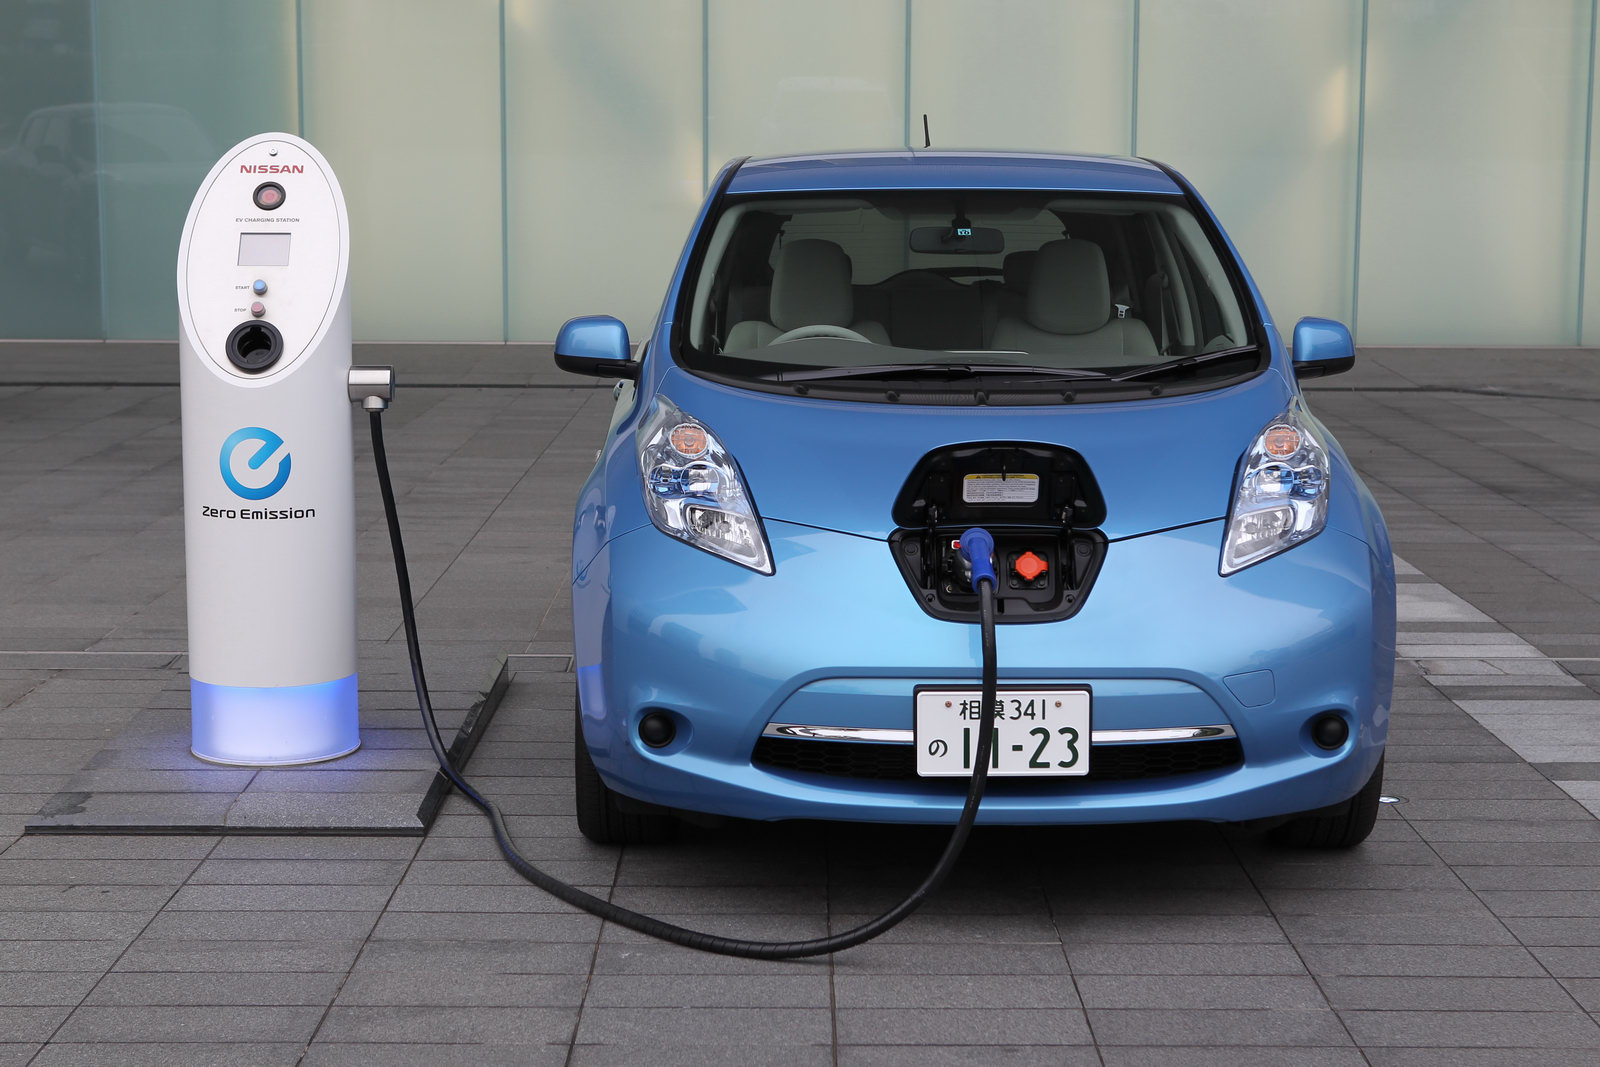Carro: (552, 143, 1398, 876)
